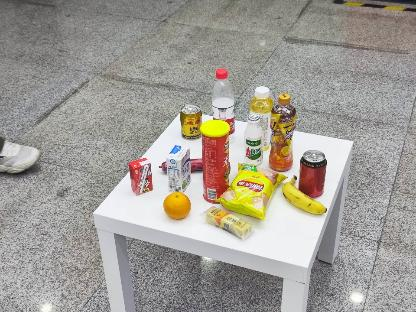Can: (300, 148, 328, 200), (180, 103, 202, 139)
Others: (204, 120, 231, 196), (126, 155, 154, 204), (168, 138, 191, 194)
Plastic Bottle: (270, 92, 294, 170), (214, 66, 236, 126), (245, 114, 263, 166)
